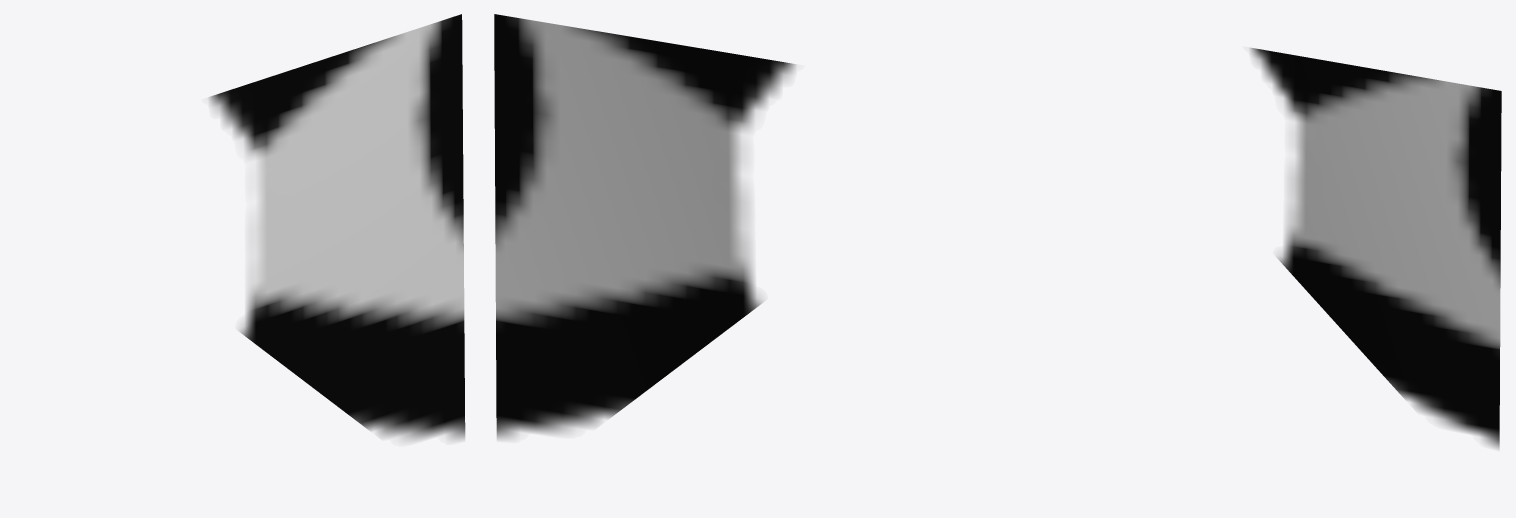
File: Hair1_30.glb
3 renders of one model, left to right at view 1: azimuth 30°, elevation 25°; view 2: azimuth 150°, elevation 25°; view 3: azimuth 330°, elevation 25°, orthographic. The views are drawn at different scales.
Visible parts, largest first — view 1: Face01.001; view 2: Face01.001; view 3: Face01.001.
Boxes of the visible parts, x1,y1,x2,y2 form: Face01.001: (209, 14, 465, 439); Face01.001: (494, 14, 795, 438); Face01.001: (1250, 48, 1501, 448).
Size of the model in its own units: 0.7818 by 0.7484 by 0.1117.
1 material, 1 textured.
